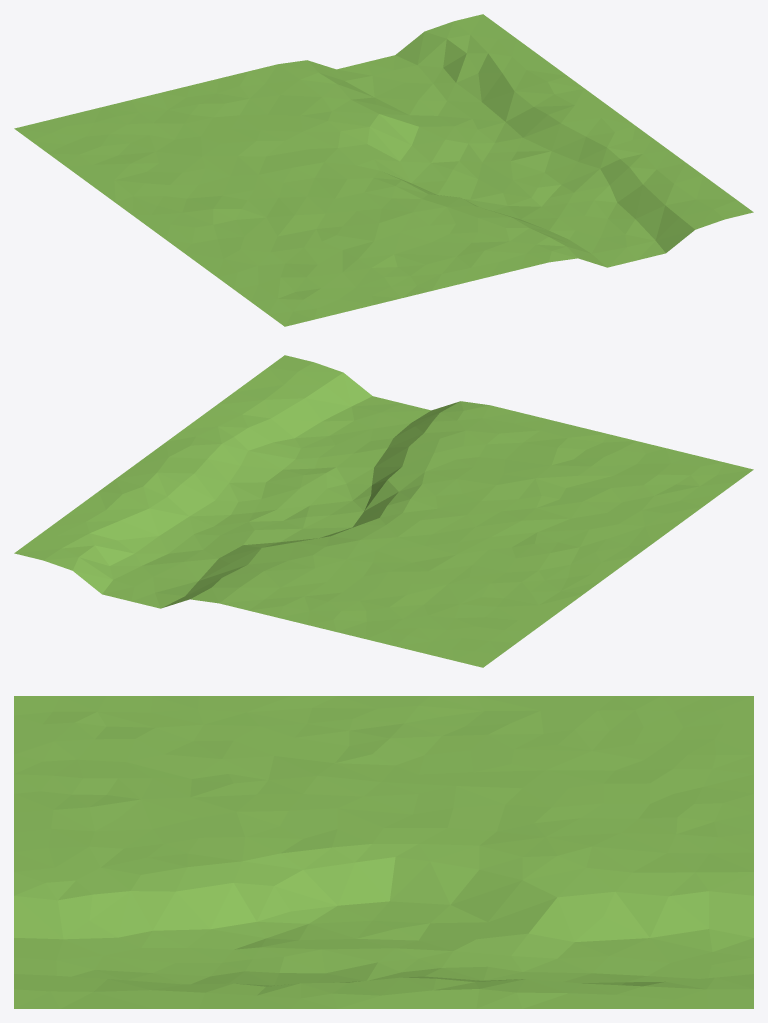
The model's file is MT_River_M_a_02_R.fbx.
3 renders of one model, top to bottom at view 1: azimuth 30°, elevation 25°; view 2: azimuth 150°, elevation 25°; view 3: azimuth 270°, elevation 25°, orthographic. The views are drawn at different scales.
Parts seen in each view (by area): view 1: MT_River_M_a_02_R; view 2: MT_River_M_a_02_R; view 3: MT_River_M_a_02_R.
Part boxes in pixels (x1,y1,x2,y2): MT_River_M_a_02_R: (14, 14, 753, 326); MT_River_M_a_02_R: (14, 355, 753, 667); MT_River_M_a_02_R: (14, 696, 753, 1008).
Size of the model in its own units: 5000 by 252 by 5000.
